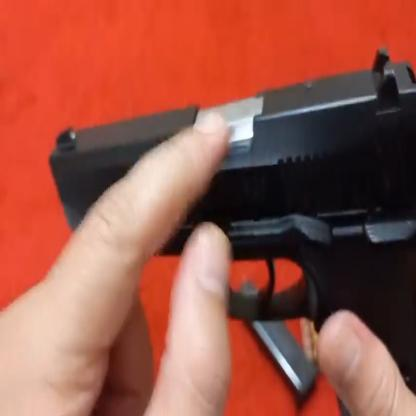handgun: (48, 65, 416, 324)
